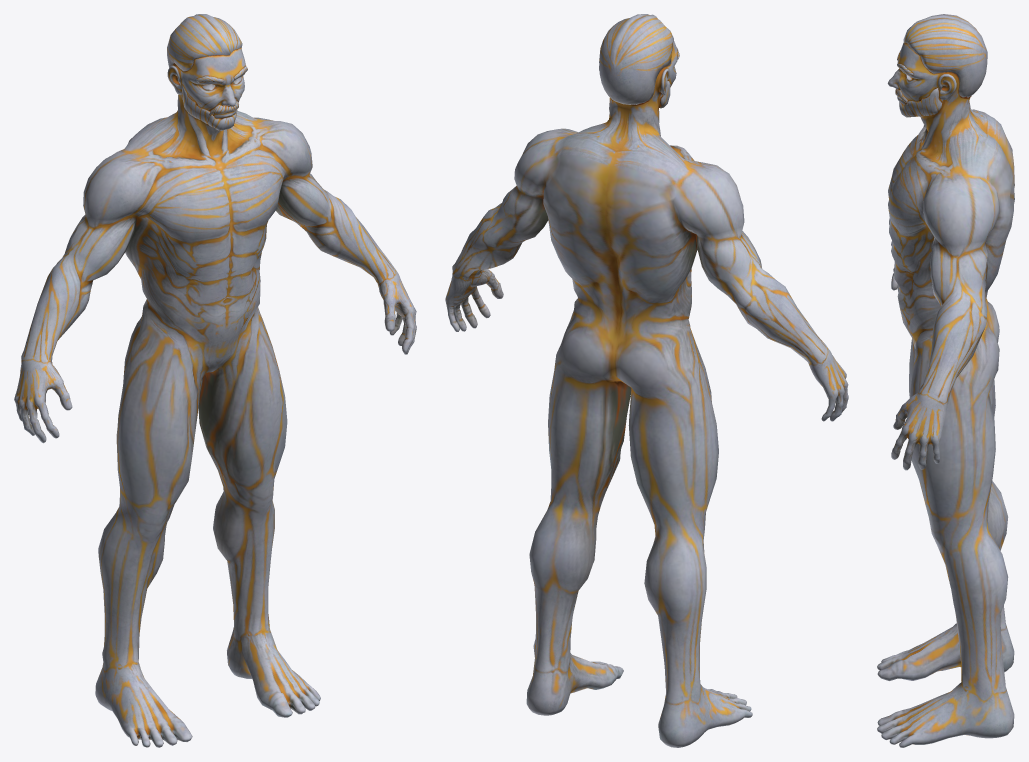
The picture shows the model from 3 angles, left to right: view 1: azimuth 30°, elevation 25°; view 2: azimuth 150°, elevation 25°; view 3: azimuth 270°, elevation 25°; orthographic projection.
Parts seen in each view (by area): view 1: BodyLow001_Low, Hair01_Low, DownBeard_Low; view 2: BodyLow001_Low, Hair01_Low; view 3: BodyLow001_Low, Hair01_Low, DownBeard_Low.
Part boxes in pixels (bbox=[...]): BodyLow001_Low: bbox=[14, 48, 416, 747]; Hair01_Low: bbox=[167, 14, 242, 71]; DownBeard_Low: bbox=[181, 84, 237, 130]; BodyLow001_Low: bbox=[445, 40, 848, 747]; Hair01_Low: bbox=[599, 14, 673, 104]; BodyLow001_Low: bbox=[877, 43, 1014, 747]; Hair01_Low: bbox=[903, 14, 987, 97]; DownBeard_Low: bbox=[899, 88, 941, 117].
Bounding box in the file's own units: 110 × 184 × 33.47.
Materials: 1 (1 with a texture image).
